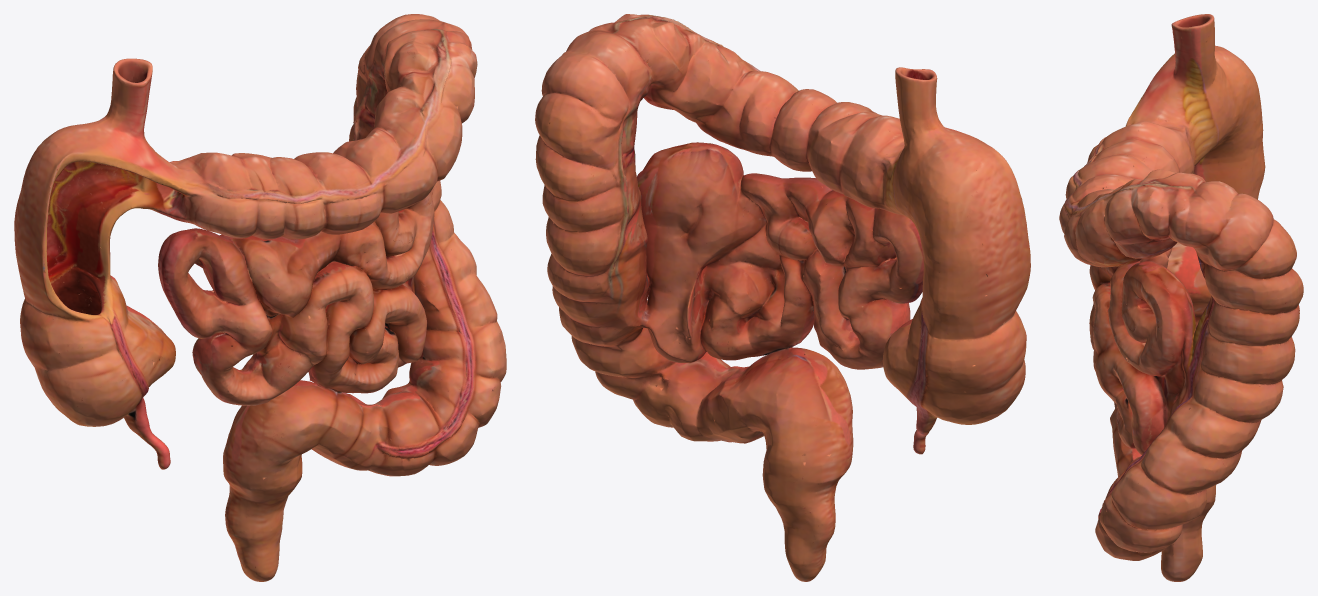
File: intestine.glb
3 renders of one model, left to right at view 1: azimuth 30°, elevation 25°; view 2: azimuth 150°, elevation 25°; view 3: azimuth 270°, elevation 25°, orthographic. The views are drawn at different scales.
Parts seen in each view (by area): view 1: Object_2, Object_4, Object_3, Object_5; view 2: Object_2, Object_3, Object_4, Object_5; view 3: Object_3, Object_4, Object_2, Object_5.
Boxes of the visible parts, <box> form: Object_2: <box>14,14,492,581</box>; Object_4: <box>18,14,506,568</box>; Object_3: <box>14,20,506,569</box>; Object_5: <box>14,14,506,573</box>; Object_2: <box>536,15,1030,579</box>; Object_3: <box>535,26,1021,564</box>; Object_4: <box>535,14,1029,581</box>; Object_5: <box>536,14,1030,580</box>; Object_3: <box>1059,16,1303,579</box>; Object_4: <box>1062,14,1302,581</box>; Object_2: <box>1064,26,1296,581</box>; Object_5: <box>1060,15,1302,581</box>.
Bounding box in the file's own units: 1.76 × 2 × 0.8703.
Materials: 1 (1 with a texture image).
